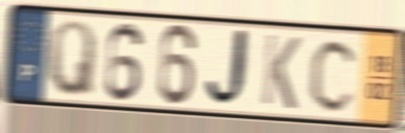6: (155, 22, 198, 108), (103, 19, 146, 104)
C: (307, 36, 361, 115)
J: (203, 26, 256, 110)
K: (259, 30, 304, 113)
Q: (45, 17, 98, 101)
